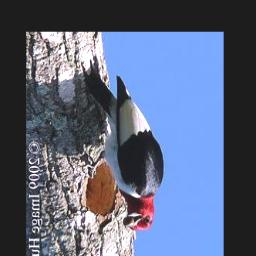Woodpecker: (76, 55, 167, 243)
